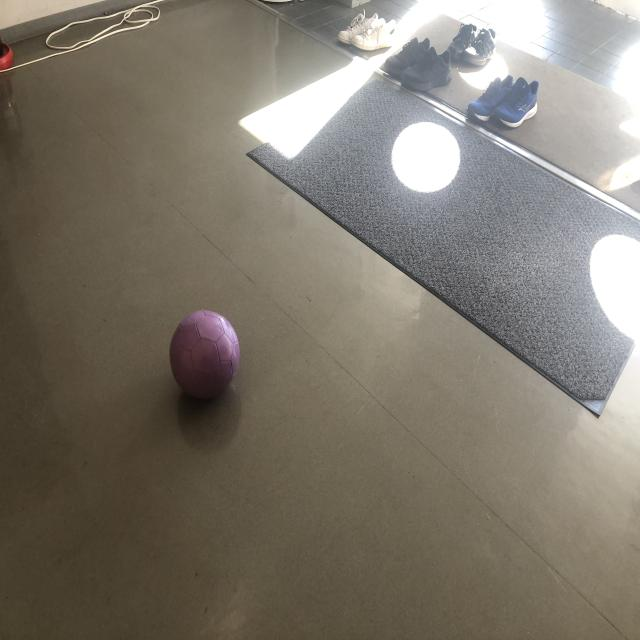purple_ball: (171, 310, 241, 402)
